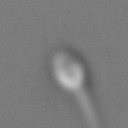normal: (75, 88, 107, 128)
